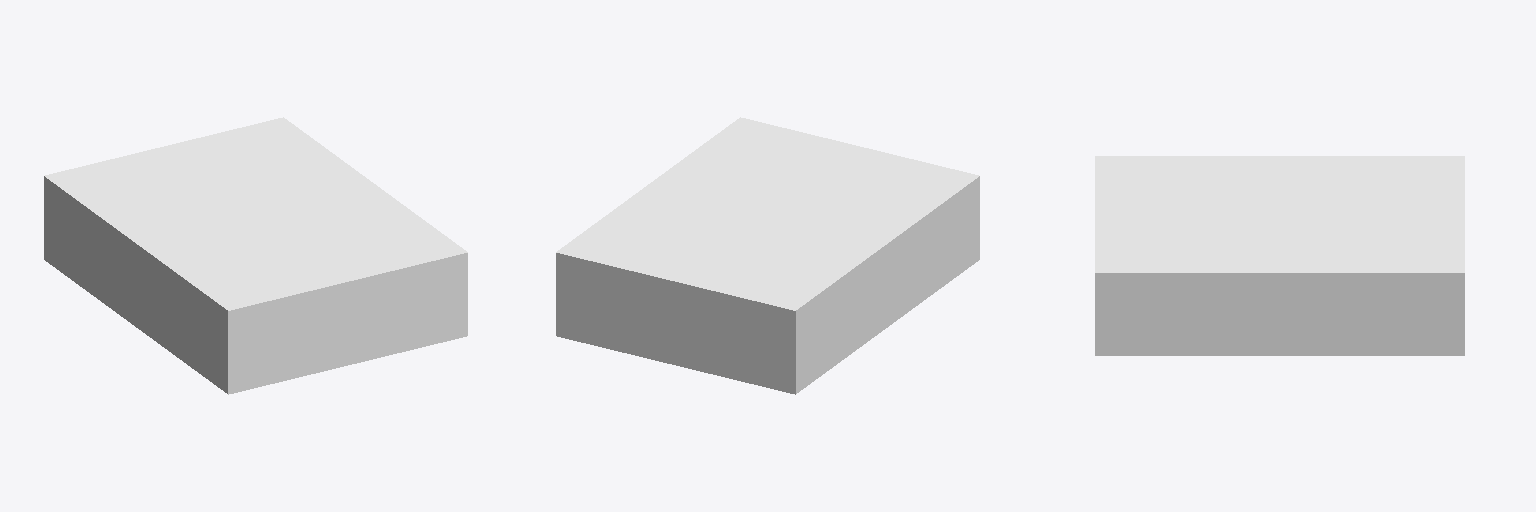
The model's file is IronIngot.obj.
3 renders of one model, left to right at view 1: azimuth 30°, elevation 25°; view 2: azimuth 150°, elevation 25°; view 3: azimuth 270°, elevation 25°, orthographic.
Parts seen in each view (by area): view 1: object 1; view 2: object 1; view 3: object 1.
Boxes of the visible parts, box(x1,y1,x2,y2) form: object 1: box(44, 117, 467, 394); object 1: box(556, 117, 979, 394); object 1: box(1095, 156, 1464, 355).
Bounding box in the file's own units: 0.6 × 0.2 × 0.8.